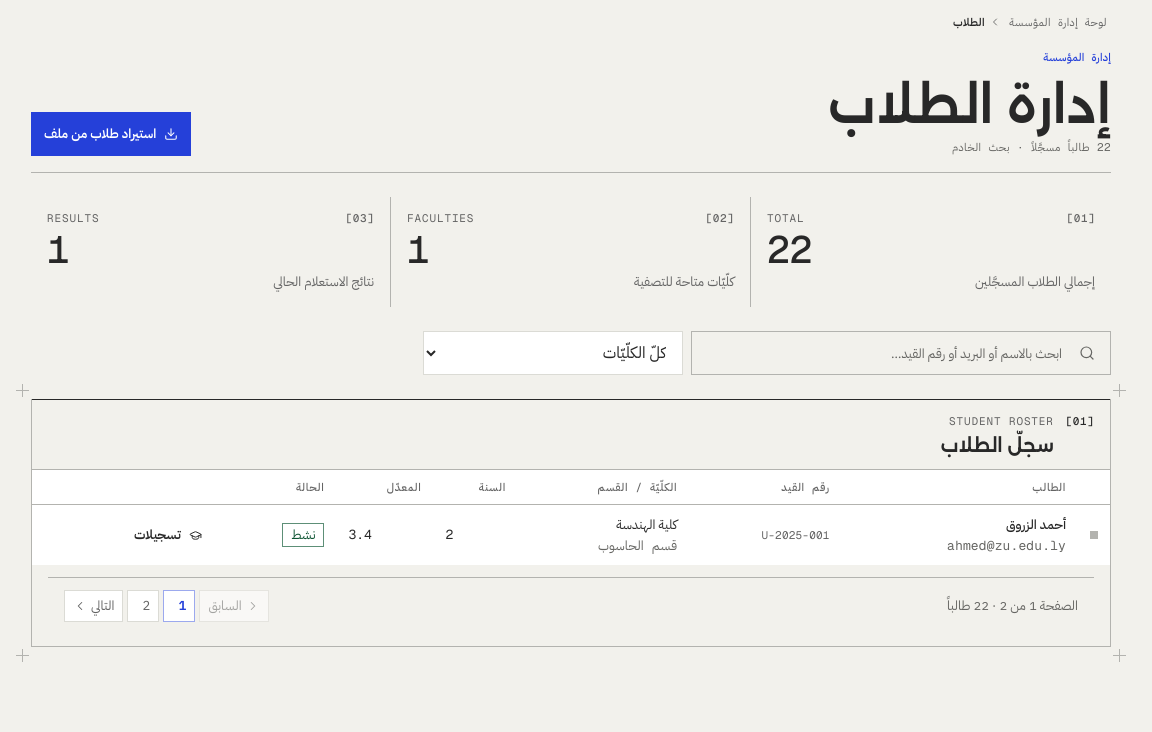
Test: AdminStudentsPage — shared TablePaginationFooter (r157 / 6A9 #7) › pageList with aria-current=page on the CURRENT page only + the countAr «طالب» unit + server ?page=2
Check: the text "الصفحة 1 من 2 · 22 طالباً" is shown, box [947, 595, 1078, 617]
Step 1. Click the button named "الصفحة 2" → click(143, 606), box [127, 590, 159, 622]
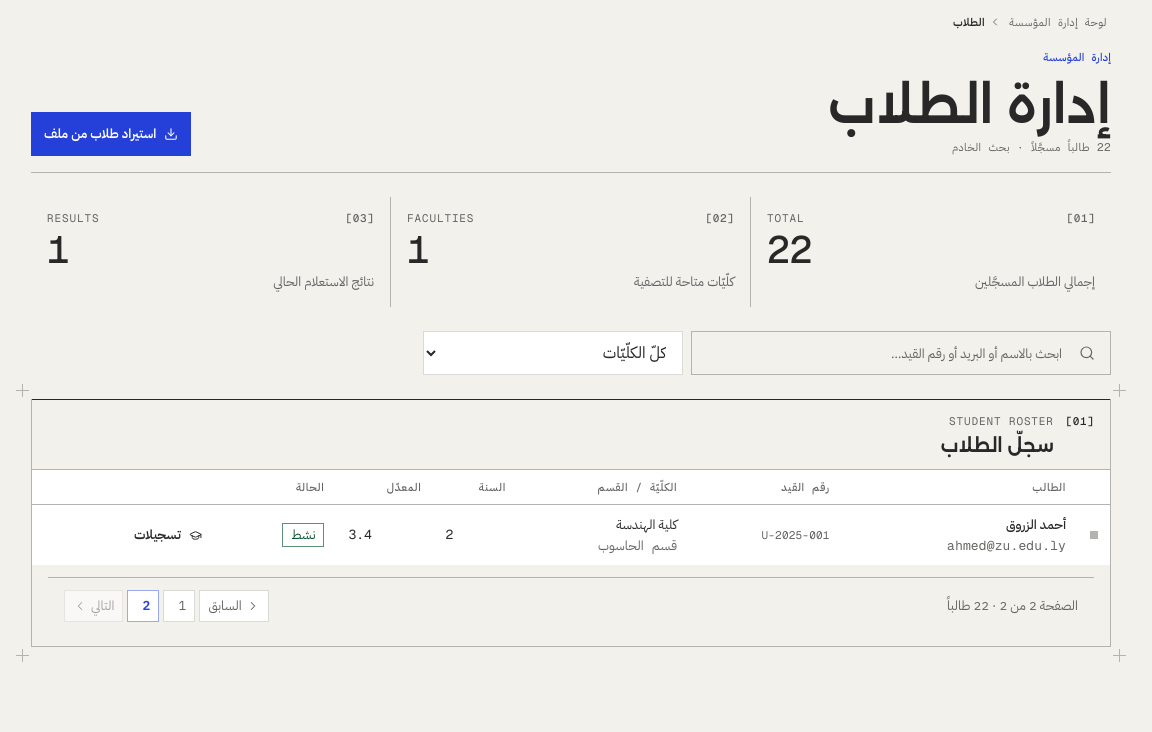
Check: the button named "الصفحة 2" is marked as current, box [127, 590, 159, 622]
